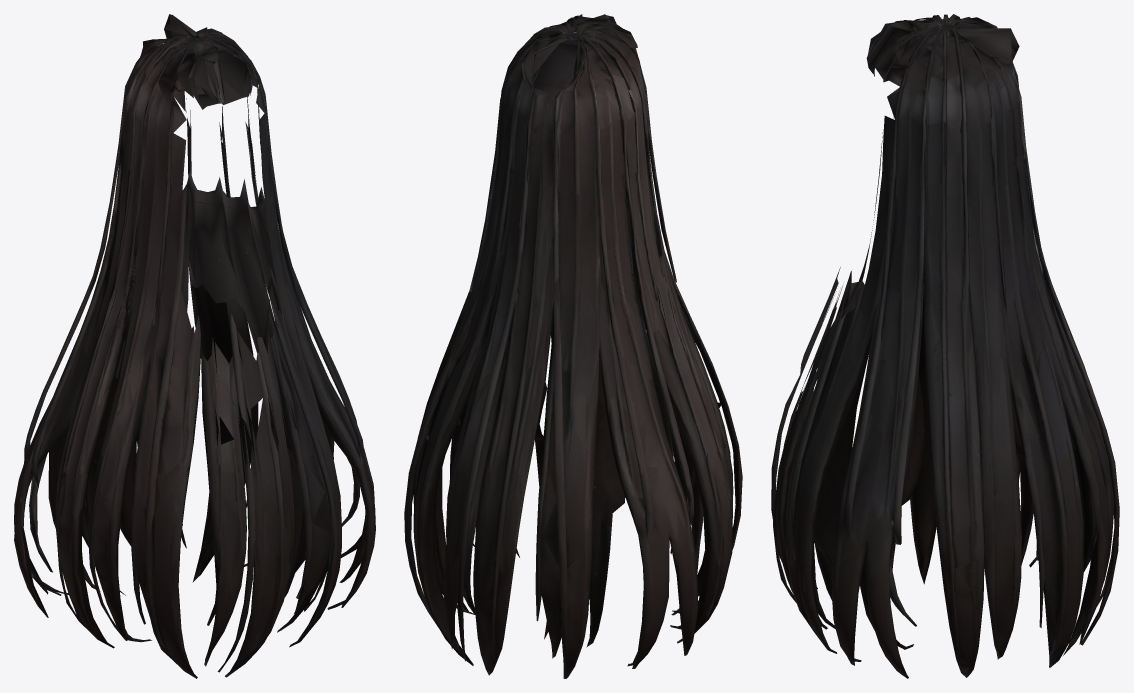
File: pelo_largo.glb
The picture shows the model from 3 angles, left to right: view 1: azimuth 30°, elevation 25°; view 2: azimuth 150°, elevation 25°; view 3: azimuth 270°, elevation 25°; orthographic projection. The views are drawn at different scales.
Parts seen in each view (by area): view 1: pelo_largo; view 2: pelo_largo; view 3: pelo_largo.
Boxes of the visible parts, left/top/right/bottom form: pelo_largo: left=14, top=14, right=375, bottom=678; pelo_largo: left=404, top=14, right=742, bottom=678; pelo_largo: left=771, top=14, right=1119, bottom=678.
Size of the model in its own units: 0.5773 by 1.1 by 0.5594.
Materials: 1 (1 with a texture image).
